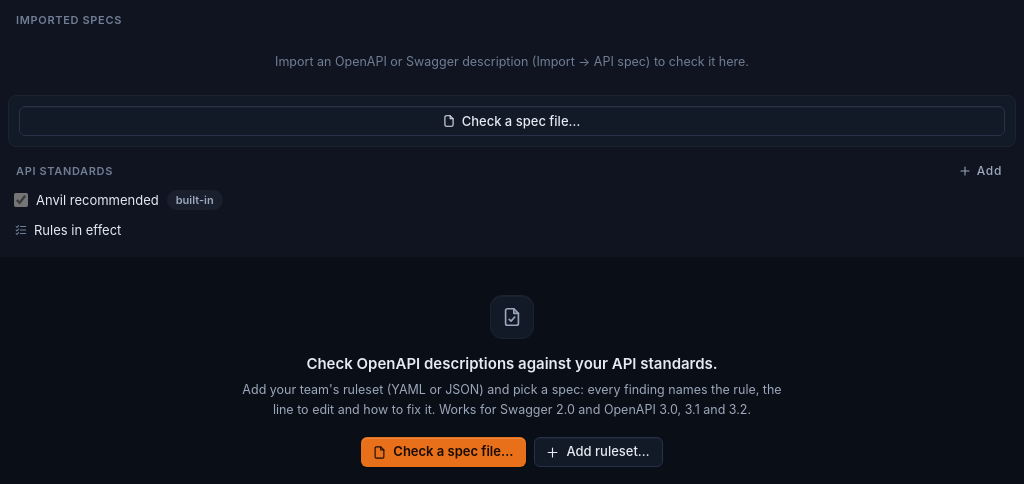
Test: rules in effect are listed with where they come from
Click the button "Rules in effect" at (68, 230), box left=14, top=222, right=121, bottom=238
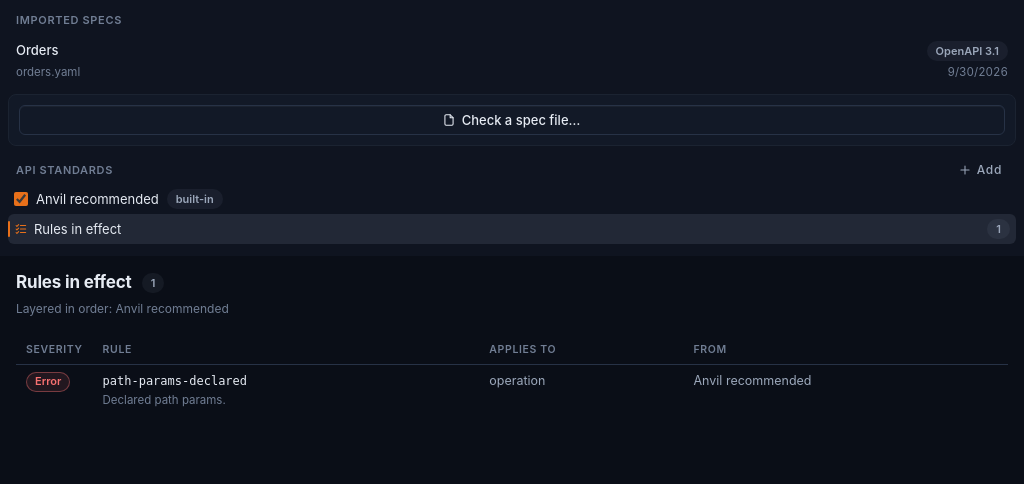
Expected: the text "Declared path params." is shown, left=102, top=392, right=226, bottom=406
Expected: the text "Layered in order: Anvil recommended" is shown, left=16, top=301, right=229, bottom=316
